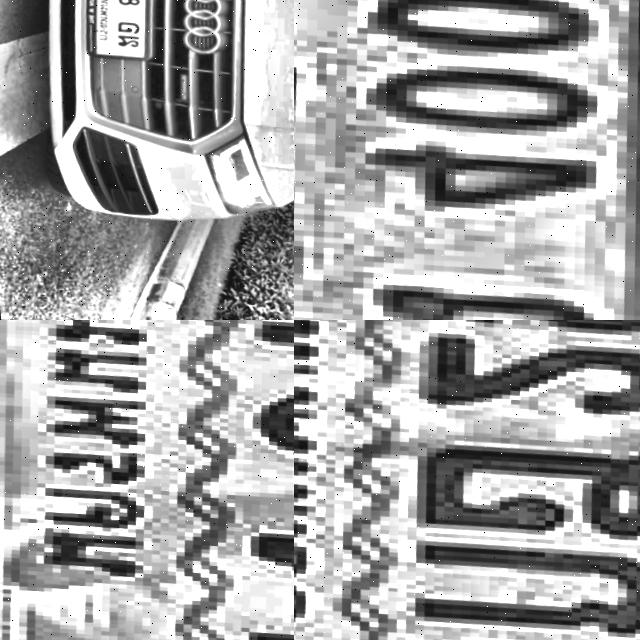license-plate: (294, 0, 640, 320), (294, 320, 640, 640), (0, 320, 294, 640), (67, 0, 160, 66)
